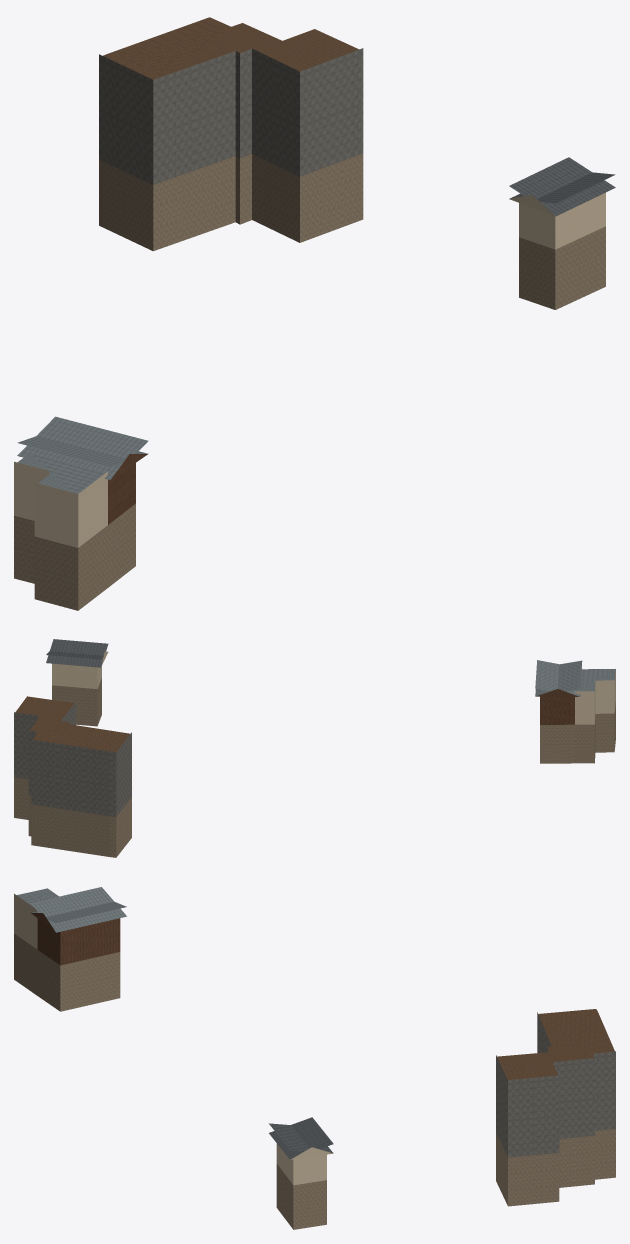
File: bld_c23_30_391.gltf
3 renders of one model, top to bottom at view 1: azimuth 30°, elevation 25°; view 2: azimuth 150°, elevation 25°; view 3: azimuth 270°, elevation 25°, orthographic. The views are drawn at different scales.
Parts seen in each view (by area): view 1: bld_c23_30_391; view 2: bld_c23_30_391; view 3: bld_c23_30_391.
Part boxes in pixels (left/top/right/bottom): bld_c23_30_391: left=14, top=17, right=615, bottom=610; bld_c23_30_391: left=14, top=639, right=615, bottom=857; bld_c23_30_391: left=14, top=887, right=615, bottom=1229.
Size of the model in its own units: 59.99 by 13.18 by 56.89.
Materials: 10 (10 with a texture image).
